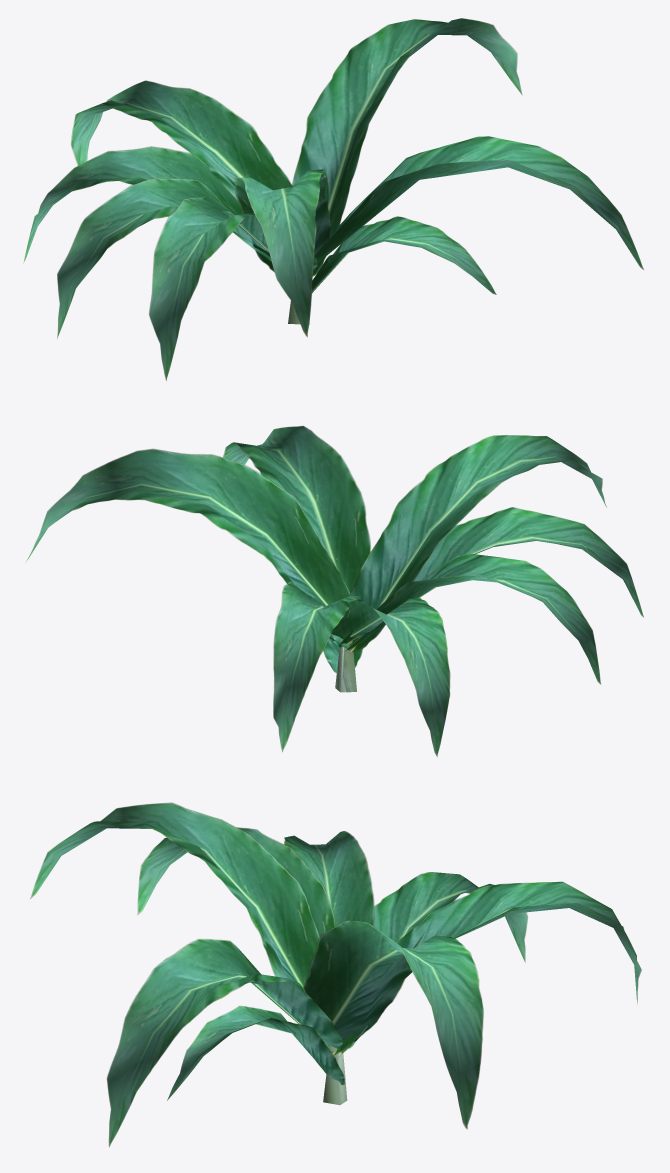
File: Flower_Ginger_Stalk_01.glb
3 renders of one model, top to bottom at view 1: azimuth 30°, elevation 25°; view 2: azimuth 150°, elevation 25°; view 3: azimuth 270°, elevation 25°, orthographic. The views are drawn at different scales.
Visible parts, largest first — view 1: kecombrang_02_A.001; view 2: kecombrang_02_A.001; view 3: kecombrang_02_A.001.
Part boxes in pixels (x1,y1,x2,y2): kecombrang_02_A.001: (23, 18, 643, 380); kecombrang_02_A.001: (25, 426, 643, 756); kecombrang_02_A.001: (30, 802, 641, 1147).
Bounding box in the file's own units: 2.52 × 1.01 × 2.31.
3 materials, 3 textured.
